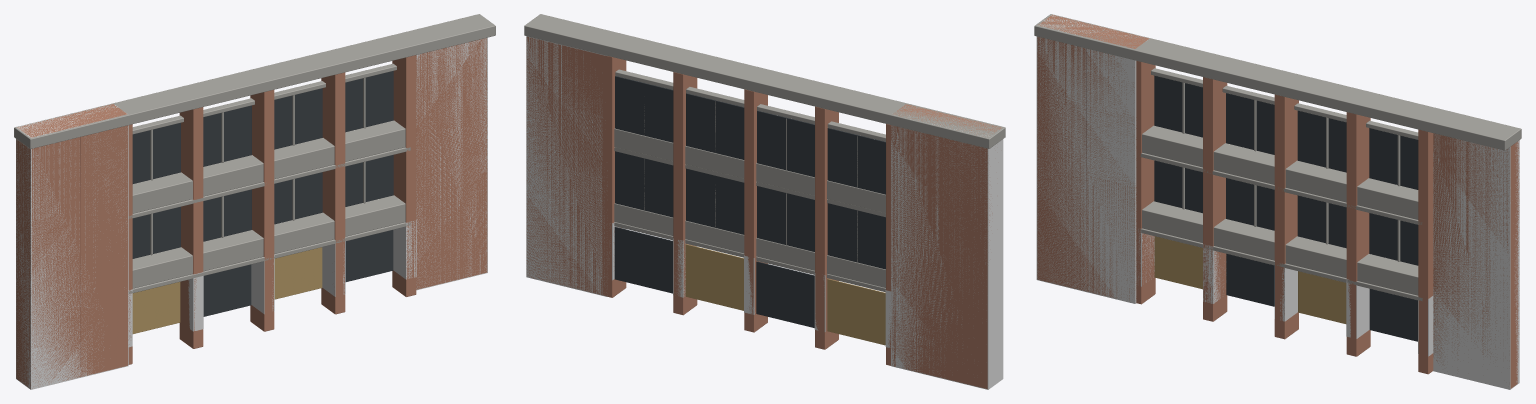
Rendered from odegaard.glb.
3 renders of one model, left to right at view 1: azimuth 30°, elevation 25°; view 2: azimuth 150°, elevation 25°; view 3: azimuth 330°, elevation 25°, orthographic.
Visible parts, largest first — view 1: odegaard_M_brick, odegaard_M_concrete, odegaard_M_glass, COL_mass_s, COL_mass_n, odegaard_M_glass_warm, COL_pier4, COL_pier1, COL_pier3, COL_pier2; view 2: odegaard_M_brick, odegaard_M_glass, odegaard_M_concrete, COL_mass_n, COL_mass_s, odegaard_M_glass_warm, COL_pier2, COL_pier3; view 3: odegaard_M_brick, odegaard_M_concrete, COL_mass_s, odegaard_M_glass, COL_mass_n, odegaard_M_glass_warm, COL_pier3, COL_pier1, COL_pier2.
Part boxes in pixels (x1,y1,x2,y2): odegaard_M_brick: (16, 38, 487, 388); odegaard_M_concrete: (14, 14, 495, 293); odegaard_M_glass: (132, 71, 393, 316); COL_mass_s: (16, 104, 128, 389); COL_mass_n: (416, 37, 487, 290); odegaard_M_glass_warm: (132, 247, 322, 333); COL_pier4: (393, 220, 416, 279); COL_pier1: (188, 272, 203, 331); COL_pier3: (322, 237, 345, 296); COL_pier2: (251, 255, 274, 314); odegaard_M_brick: (526, 36, 1001, 388); odegaard_M_glass: (614, 76, 885, 327); odegaard_M_concrete: (524, 14, 1005, 292); COL_mass_n: (526, 36, 607, 296); COL_mass_s: (891, 115, 1003, 389); odegaard_M_glass_warm: (685, 244, 885, 345); COL_pier2: (744, 255, 754, 314); COL_pier3: (673, 238, 697, 297); odegaard_M_brick: (1037, 14, 1519, 388); odegaard_M_concrete: (1034, 14, 1521, 301); COL_mass_s: (1036, 14, 1149, 303); odegaard_M_glass: (1154, 75, 1418, 341); COL_mass_n: (1433, 134, 1519, 389); odegaard_M_glass_warm: (1154, 236, 1346, 323); COL_pier3: (1346, 279, 1369, 338); COL_pier1: (1203, 244, 1223, 303); COL_pier2: (1274, 261, 1297, 321).
Size of the model in its own units: 28.65 by 14.8 by 1.75.
